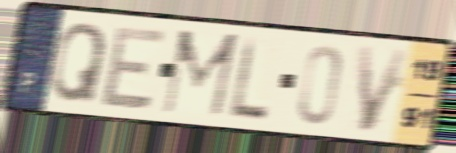0: (295, 42, 344, 127)
E: (97, 25, 169, 112)
L: (228, 34, 271, 123)
M: (158, 27, 242, 120)
Q: (48, 20, 110, 106)
V: (354, 43, 413, 136)
